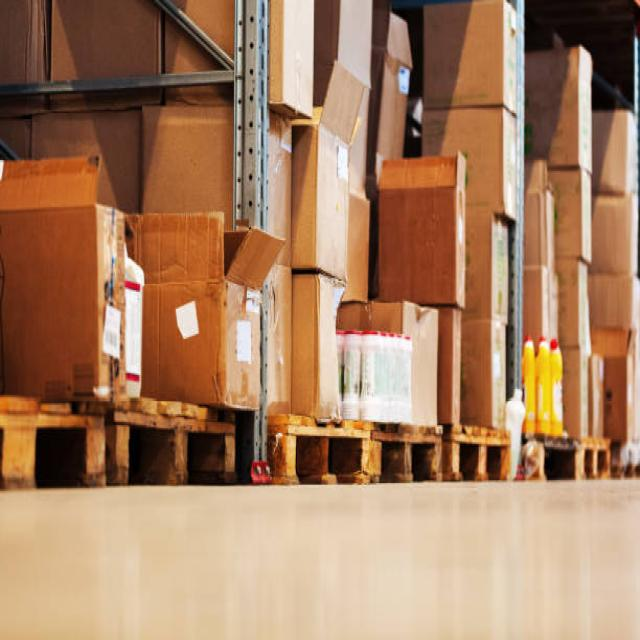Wooden-Pallets: (108, 399, 240, 496), (282, 409, 376, 492), (447, 416, 516, 503), (569, 436, 615, 483)
